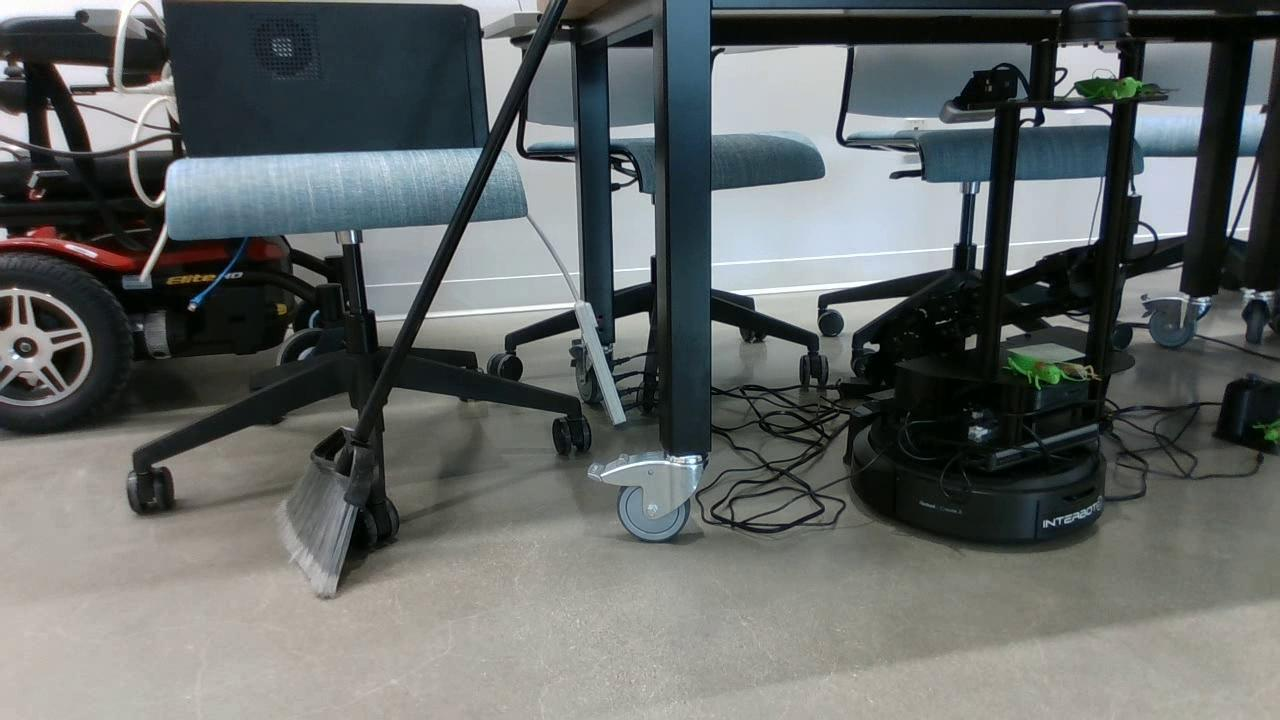grasshopper: (998, 346, 1075, 392), (1067, 74, 1142, 103), (1251, 416, 1280, 451)
